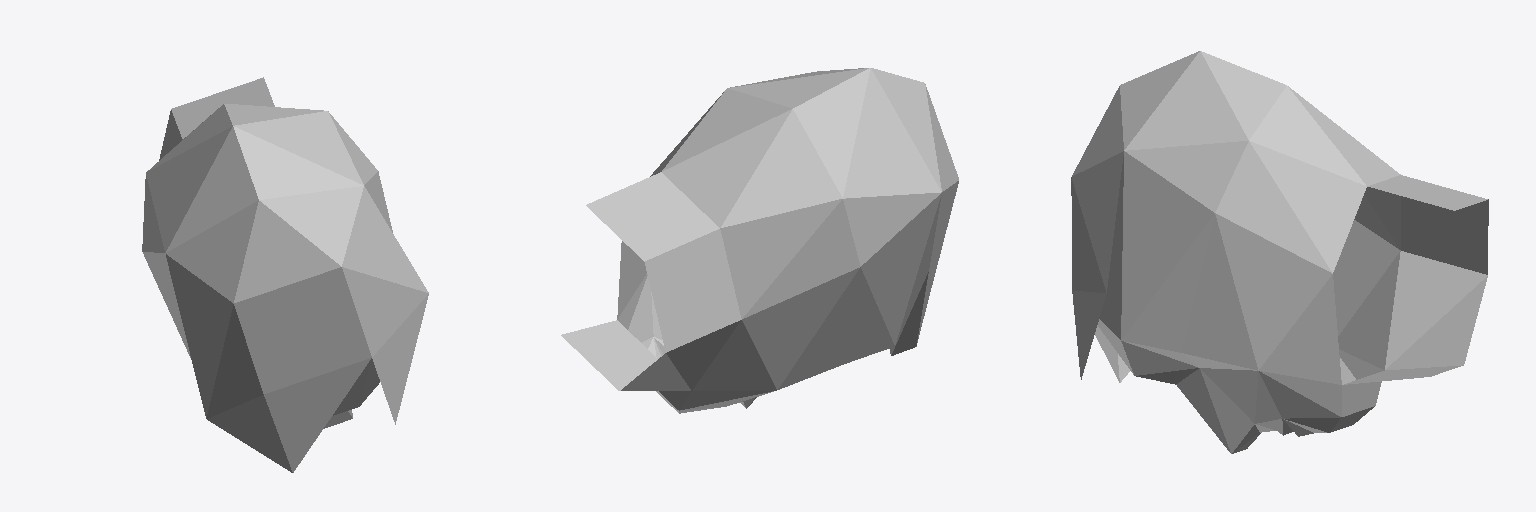
File: joe_head.obj
The picture shows the model from 3 angles: view 1: azimuth 30°, elevation 25°; view 2: azimuth 150°, elevation 25°; view 3: azimuth 270°, elevation 25°; orthographic projection.
Size of the model in its own units: 0.456 by 0.5747 by 0.6222.